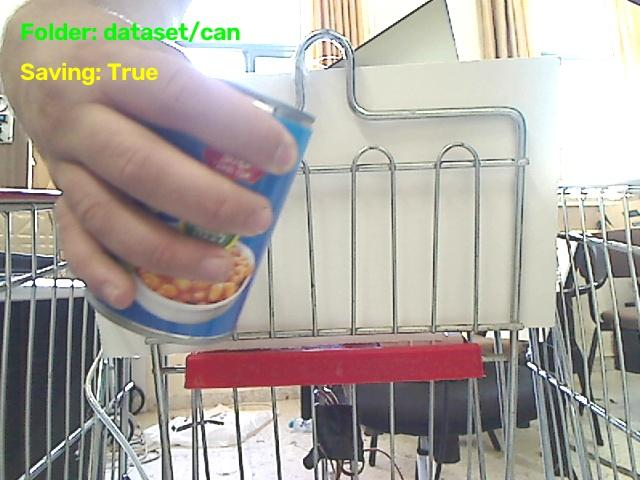can: (90, 211, 274, 343)
